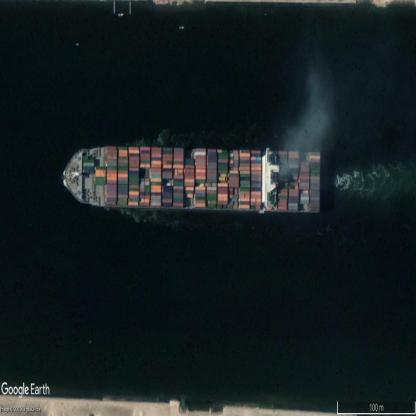ship: (64, 142, 324, 216)
